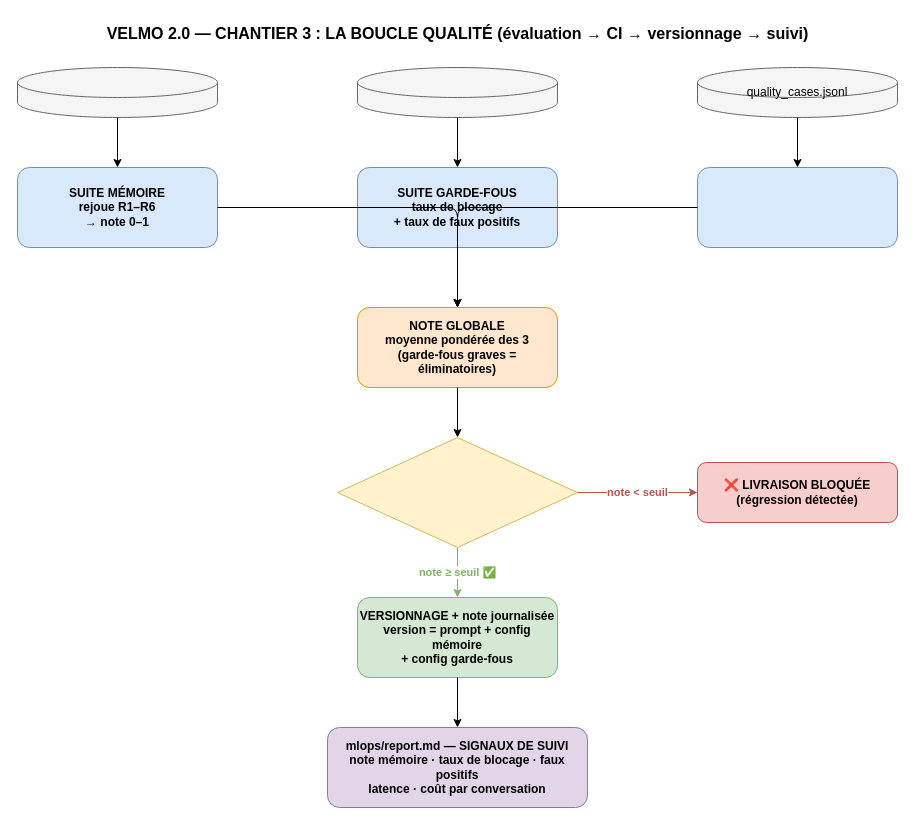
This 915x825 diagram has some shape labels left out. The shapes that lost their labels are listed below. From the top down, each one's box as (x1, y1, x2, y2) in pixels, then its label:
(16, 66, 218, 118): memory_cases.jsonl
(356, 66, 558, 118): guardrail_cases.jsonl
(696, 166, 898, 248): SUITE QUALITÉ qualité des réponses → note 0–1
(336, 436, 578, 548): CI quality.yml note ≥ seuil ? (anti-bruit : moyenne 3 runs)
